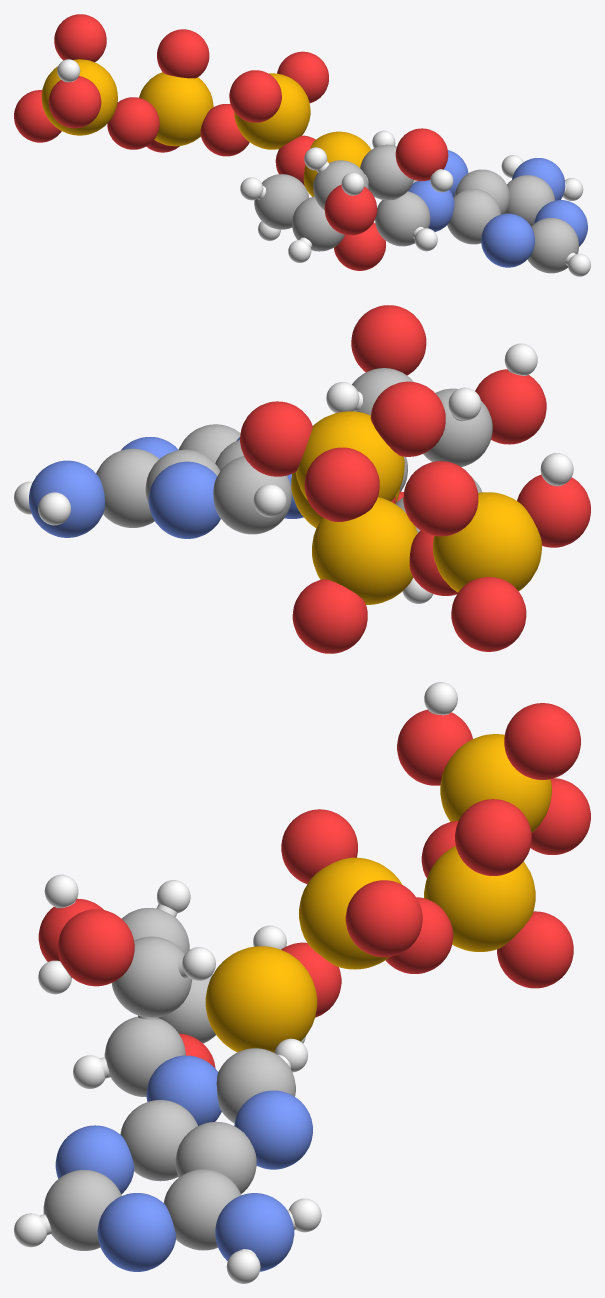
File: ATP.glb
The picture shows the model from 3 angles, top to bottom: view 1: azimuth 30°, elevation 25°; view 2: azimuth 150°, elevation 25°; view 3: azimuth 270°, elevation 25°; orthographic projection. The views are drawn at different scales.
Parts seen in each view (by area): view 1: Oxygen_ball (×12), Carbon_ball (×9), Phosphorus_ball (×4), Nitrogen_ball (×5), Hydrogen_ball (×9); view 2: Oxygen_ball (×10), Phosphorus_ball (×4), Carbon_ball (×7), Nitrogen_ball (×3), Hydrogen_ball (×7); view 3: Oxygen_ball (×12), Carbon_ball (×9), Phosphorus_ball (×4), Nitrogen_ball (×5), Hydrogen_ball (×9).
Boxes of the visible parts, left/top/right/bottom form: Oxygen_ball (×12): left=14, top=14, right=448, bottom=270; Carbon_ball (×9): left=254, top=144, right=578, bottom=273; Phosphorus_ball (×4): left=41, top=59, right=371, bottom=196; Nitrogen_ball (×5): left=408, top=150, right=587, bottom=267; Hydrogen_ball (×9): left=57, top=59, right=590, bottom=276; Oxygen_ball (×10): left=240, top=305, right=590, bottom=653; Phosphorus_ball (×4): left=291, top=411, right=541, bottom=604; Carbon_ball (×7): left=96, top=368, right=492, bottom=534; Nitrogen_ball (×3): left=29, top=437, right=220, bottom=538; Hydrogen_ball (×7): left=38, top=343, right=573, bottom=603; Oxygen_ball (×12): left=38, top=703, right=590, bottom=1017; Carbon_ball (×9): left=43, top=908, right=295, bottom=1250; Phosphorus_ball (×4): left=205, top=734, right=551, bottom=1052; Nitrogen_ball (×5): left=55, top=1055, right=312, bottom=1271; Hydrogen_ball (×9): left=14, top=682, right=457, bottom=1283.
Size of the model in its own units: 14.85 by 6.63 by 10.93.
